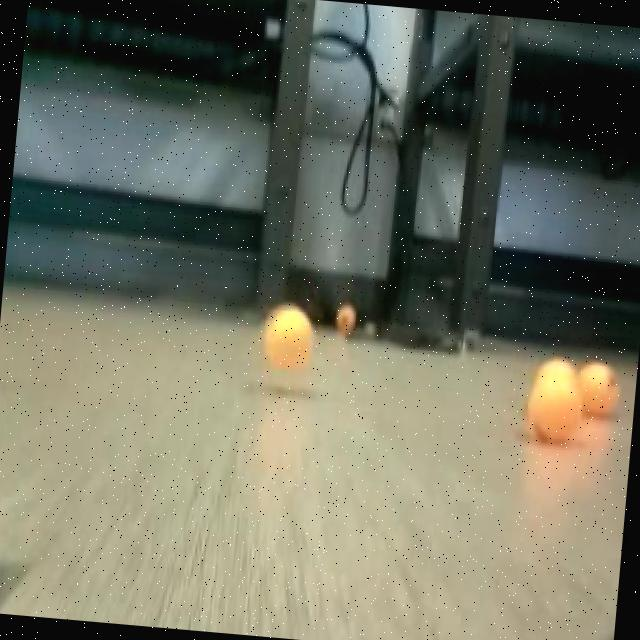ping-pong-ball: (254, 296, 320, 372), (522, 366, 582, 442), (576, 352, 620, 410), (324, 296, 358, 344)
